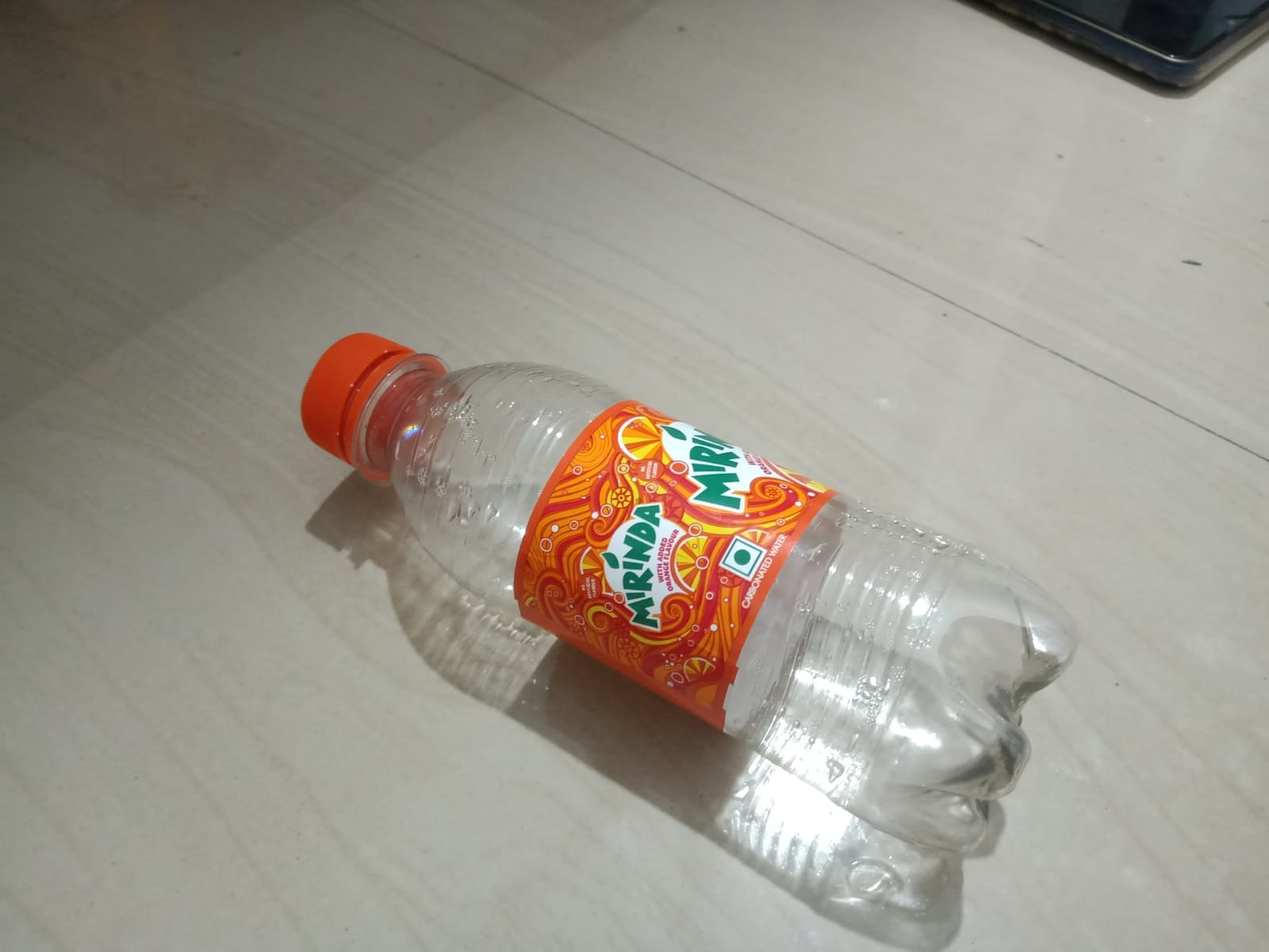plastic: (181, 312, 1137, 838)
